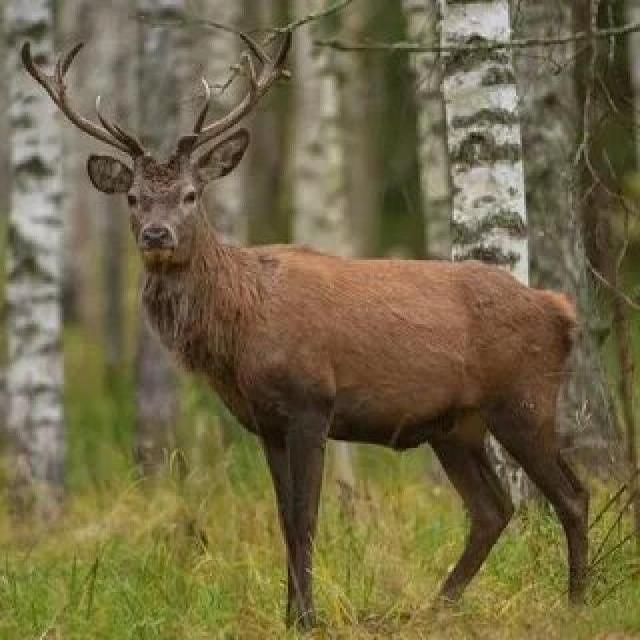deer: (62, 16, 633, 560)
